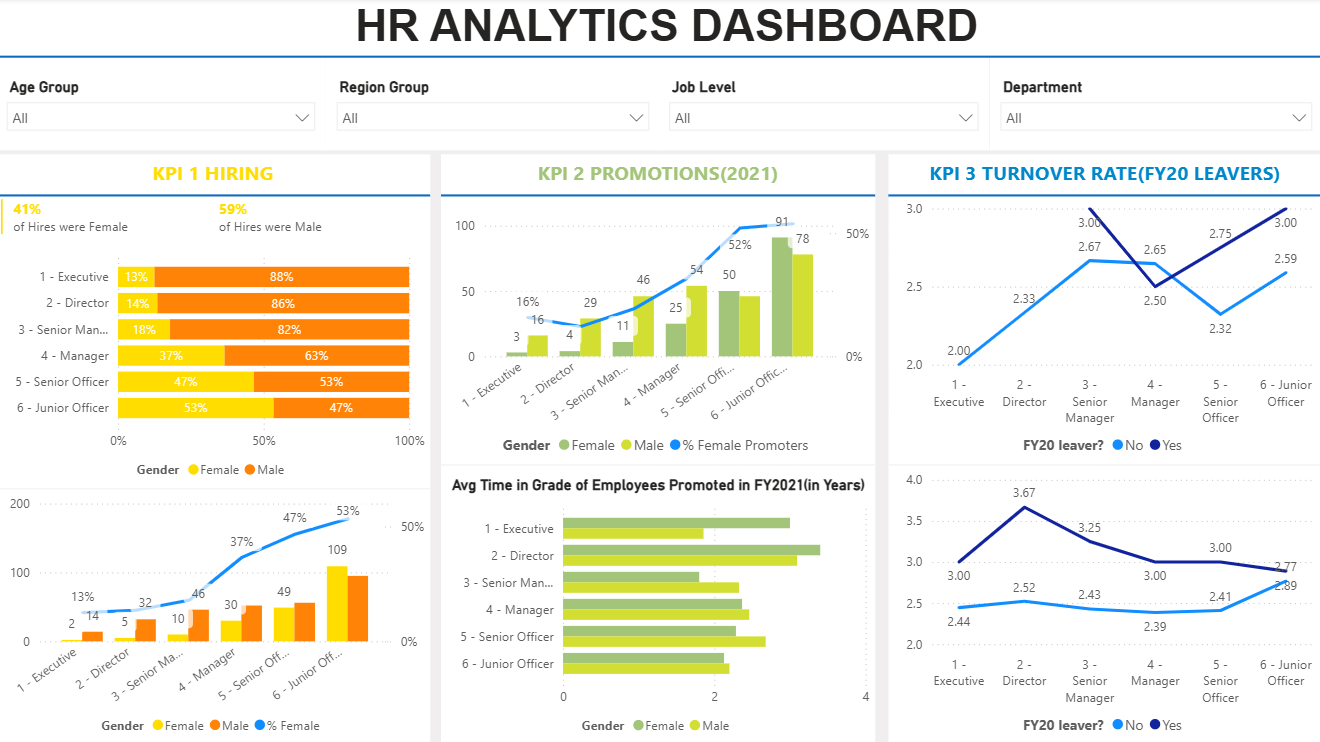

What the dashboard file says about the page in this screenshot:
{"tool":"powerbi","page":{"name":"Dashboard 1","canvas":[1280,720],"ordinal":0},"visuals":[{"type":"textbox","box":[0,0,1280,57],"z":0},{"type":"slicer","fields":{"Values":["Pharma.Last Department in FY20"]},"box":[959,57,321,90],"z":1000},{"type":"slicer","fields":{"Values":["Pharma.Job Level after FY20 promotions"]},"box":[640,57,319,90],"z":2000},{"type":"slicer","fields":{"Values":["Pharma.Age group"]},"box":[0,57,318,90],"z":3000},{"type":"slicer","fields":{"Values":["Pharma.Broad region group: nationality 1"]},"box":[318,57,322,90],"z":4000},{"type":"hundredPercentStackedBarChart","fields":{"Category":["Pharma.Job Level after FY20 promotions"],"Y":["CountNonNull(Pharma.Employee ID)"],"Series":["Pharma.Gender"]},"box":[0,237,419,237],"z":5000},{"type":"multiRowCard","fields":{"Values":["Pharma.% Female","Pharma.% Male"]},"box":[0,190,419,47],"z":6000},{"type":"lineClusteredColumnComboChart","fields":{"Category":["Pharma.Job Level after FY20 promotions"],"Y":["CountNonNull(Pharma.Employee ID)"],"Y2":["Pharma.% Female"],"Series":["Pharma.Gender"]},"box":[0,474,419,246],"z":7000},{"type":"lineClusteredColumnComboChart","fields":{"Y":["CountNonNull(Pharma.Employee ID)"],"Y2":["Pharma.% Female"],"Series":["Pharma.Gender"],"Category":["Pharma.Job Level after FY21 promotions"]},"box":[429,190,419,261],"z":8000},{"type":"clusteredBarChart","title":"Avg Time in Grade of  Employees Promoted in FY2021(in Years)","fields":{"Category":["Pharma.Job Level after FY20 promotions"],"Series":["Pharma.Gender"],"Y":["Avg(Pharma.Time in Job Level @01.07.2020)"]},"box":[429,451,419,269],"z":9000},{"type":"lineChart","fields":{"Category":["Pharma.Job Level after FY20 promotions"],"Series":["Pharma.FY20 leaver?"],"Y":["Avg(Pharma.FY19 Performance Rating)"]},"box":[862,190,418,261],"z":10000},{"type":"lineChart","fields":{"Category":["Pharma.Job Level after FY20 promotions"],"Series":["Pharma.FY20 leaver?"],"Y":["Avg(Pharma.FY19 Performance Rating)"]},"box":[862,451,418,269],"z":11000},{"type":"textbox","box":[0,151,419,39],"z":12000},{"type":"textbox","box":[429,151,419,39],"z":13000},{"type":"textbox","box":[862,151,418,39],"z":14000},{"type":"shape","box":[0,178,419,24],"z":15000},{"type":"shape","box":[429,178,419,24],"z":16000},{"type":"shape","box":[0,45,1280,24],"z":17000},{"type":"shape","box":[861,178,419,24],"z":18000}]}

Visuals, with their boxes in screenshot pixels (x1, y1, x2, y2), scaled from the page's 1280x720 canvas onto the 1320x742 screenshot:
textbox: left=0, top=0, right=1319, bottom=59
slicer - Pharma.Last Department in FY20: left=989, top=59, right=1319, bottom=151
slicer - Pharma.Job Level after FY20 promotions: left=660, top=59, right=989, bottom=151
slicer - Pharma.Age group: left=0, top=59, right=328, bottom=151
slicer - Pharma.Broad region group: nationality 1: left=328, top=59, right=660, bottom=151
hundredPercentStackedBarChart - Pharma.Job Level after FY20 promotions x CountNonNull(Pharma.Employee ID): left=0, top=244, right=432, bottom=488
multiRowCard - Pharma.% Female x Pharma.% Male: left=0, top=196, right=432, bottom=244
lineClusteredColumnComboChart - Pharma.Job Level after FY20 promotions x CountNonNull(Pharma.Employee ID): left=0, top=488, right=432, bottom=741
lineClusteredColumnComboChart - CountNonNull(Pharma.Employee ID) x Pharma.% Female: left=442, top=196, right=874, bottom=465
"Avg Time in Grade of  Employees Promoted in FY2021(in Years)" clusteredBarChart: left=442, top=465, right=874, bottom=741
lineChart - Pharma.Job Level after FY20 promotions x Pharma.FY20 leaver?: left=889, top=196, right=1319, bottom=465
lineChart - Pharma.Job Level after FY20 promotions x Pharma.FY20 leaver?: left=889, top=465, right=1319, bottom=741
textbox: left=0, top=156, right=432, bottom=196
textbox: left=442, top=156, right=874, bottom=196
textbox: left=889, top=156, right=1319, bottom=196
shape: left=0, top=183, right=432, bottom=208
shape: left=442, top=183, right=874, bottom=208
shape: left=0, top=46, right=1319, bottom=71
shape: left=888, top=183, right=1319, bottom=208
